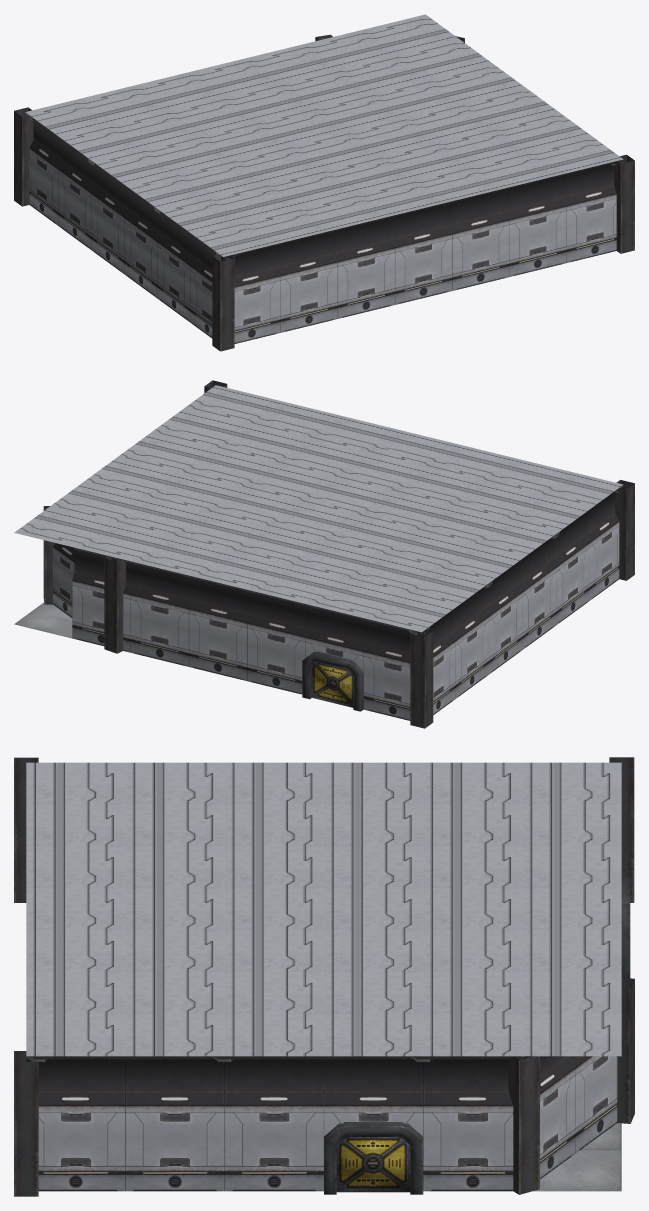
File: SalaBoss.fbx
3 views of the same model, one above another, from view 1: azimuth 30°, elevation 25°; view 2: azimuth 150°, elevation 25°; view 3: azimuth 270°, elevation 25° (orthographic). The views are drawn at different scales.
Parts seen in each view (by area): view 1: ROOM_WALL.276, ROOM_WALL.275, ROOM_WALL.279, ROOM_WALL.278, ROOM_WALL.277, ROOM_WALL.280, ROOM_WALL.274, ROOM_WALL.285, ROOM_WALL.283, ROOM_WALL.282, ROOM_WALL.284, ROOM_WALL.281 (+46 smaller); view 2: ROOM_WALL.269, ROOM_WALL.270, ROOM_WALL.271, ROOM_WALL.273, ROOM_WALL.268, ROOM_WALL.284, ROOM_WALL.282, ROOM_WALL.285, ROOM_WALL.283, MESH_DOOR_LAB.004, ROOM_WALL.286, ROOM_WALL.272 (+49 smaller); view 3: ROOM_WALL.288, ROOM_WALL.289, ROOM_WALL.291, ROOM_WALL.287, MESH_DOOR_LAB.003, ROOM_WALL.290, ROOM_ROOF.084, ROOM_ROOF.092, ROOM_ROOF.093, ROOM_ROOF.094, ROOM_ROOF.095, ROOM_ROOF.096 (+46 smaller).
Boxes of the visible parts, x1,y1,x2,y2 form: ROOM_WALL.276: (335, 217, 394, 318); ROOM_WALL.275: (278, 231, 337, 332); ROOM_WALL.279: (507, 176, 566, 276); ROOM_WALL.278: (449, 189, 509, 290); ROOM_WALL.277: (392, 203, 452, 304); ROOM_WALL.280: (564, 163, 621, 262); ROOM_WALL.274: (221, 245, 280, 343); ROOM_WALL.285: (157, 213, 194, 322); ROOM_WALL.283: (91, 165, 128, 273); ROOM_WALL.282: (58, 140, 95, 249); ROOM_WALL.284: (124, 188, 161, 297); ROOM_WALL.281: (29, 119, 62, 225); ROOM_WALL.269: (130, 563, 191, 666); ROOM_WALL.270: (188, 578, 249, 680); ROOM_WALL.271: (247, 592, 307, 694); ROOM_WALL.273: (363, 620, 424, 720); ROOM_WALL.268: (72, 549, 132, 652); ROOM_WALL.284: (518, 538, 556, 649); ROOM_WALL.282: (451, 587, 488, 698); ROOM_WALL.285: (552, 513, 589, 624); ROOM_WALL.283: (485, 562, 522, 674); MESH_DOOR_LAB.004: (302, 651, 363, 711); ROOM_WALL.286: (585, 492, 619, 600); ROOM_WALL.272: (305, 606, 365, 671); ROOM_WALL.288: (125, 1059, 224, 1191); ROOM_WALL.289: (224, 1059, 323, 1191); ROOM_WALL.291: (423, 1059, 520, 1191); ROOM_WALL.287: (26, 1059, 125, 1191); MESH_DOOR_LAB.003: (324, 1122, 423, 1194); ROOM_WALL.290: (324, 1059, 423, 1136); ROOM_ROOF.084: (423, 930, 522, 972); ROOM_ROOF.092: (423, 972, 522, 1014); ROOM_ROOF.093: (423, 1014, 522, 1056); ROOM_ROOF.094: (423, 762, 522, 804); ROOM_ROOF.095: (423, 804, 522, 846); ROOM_ROOF.096: (423, 846, 522, 888).
Size of the model in its own units: 29 by 6 by 25.02.
